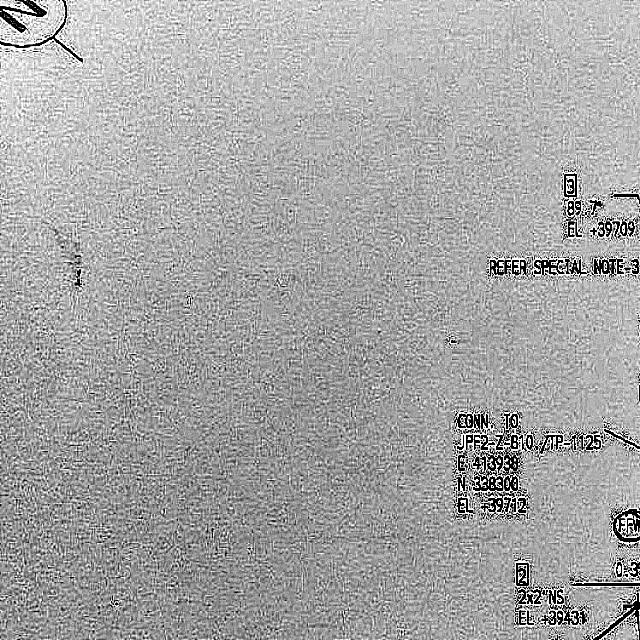Item number: (0, 1, 53, 19), (563, 170, 579, 199), (515, 559, 530, 587)
Measrement: (564, 195, 605, 220)
Pipeline: (590, 595, 639, 639)
Weld number: (610, 504, 639, 546), (612, 558, 639, 580), (634, 371, 639, 411)
other: (455, 408, 605, 520), (485, 255, 639, 277), (515, 586, 590, 628), (563, 215, 639, 242)
